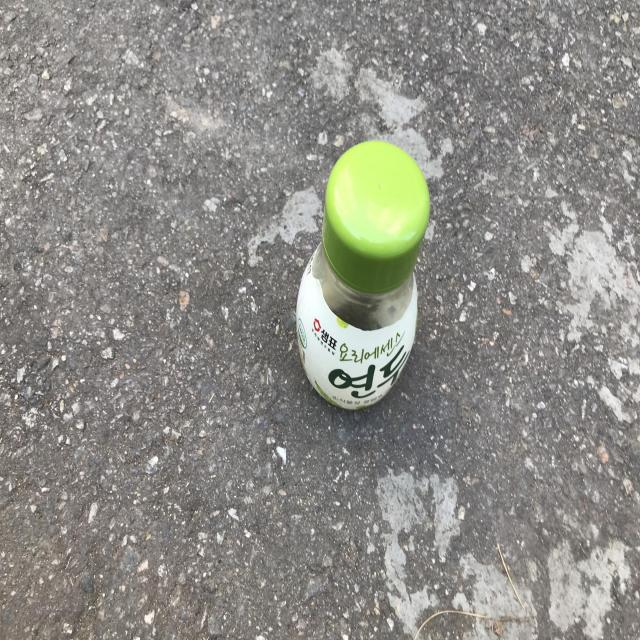glass: (296, 140, 430, 410)
